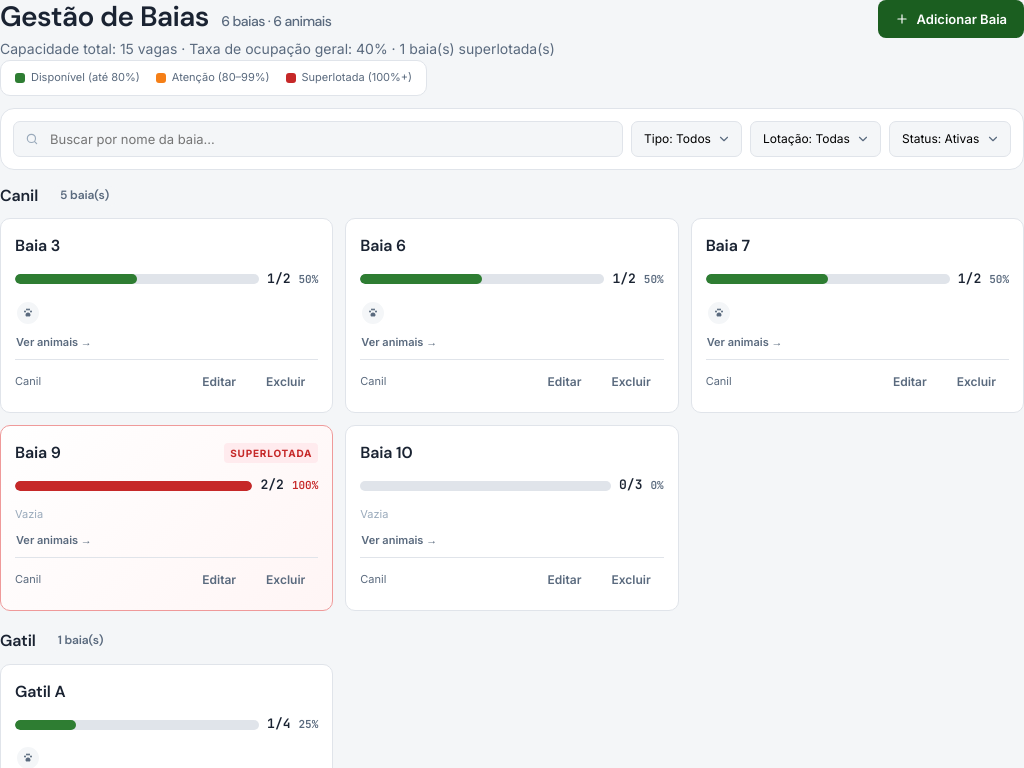
Test: GestaoBaias › capacidade vazia mostra "informe a capacidade" em vez de aceitar como zero
Expected: the text "Baia 3" is shown, [15, 233, 60, 259]
Click the button "Adicionar Baia".
click(951, 19)  # box [878, 0, 1023, 38]
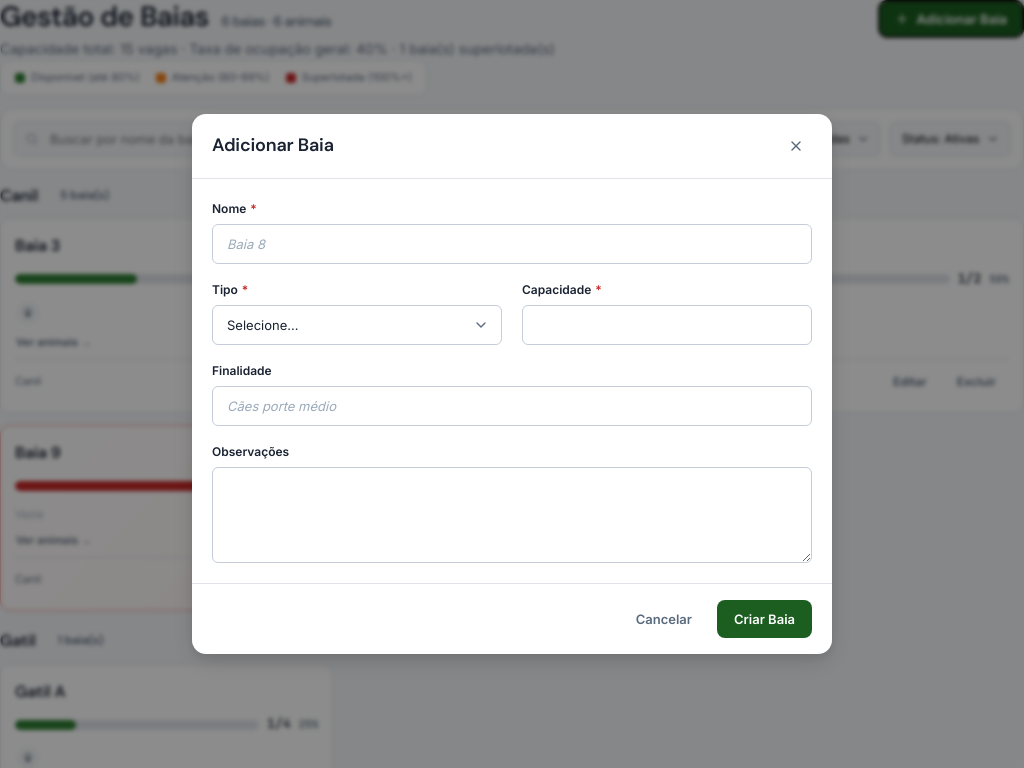
Type "Baia Sem Capacidade" into the field labelled "Nome *".
click(512, 244); type("Baia Sem Capacidade")  # box [212, 224, 812, 264]
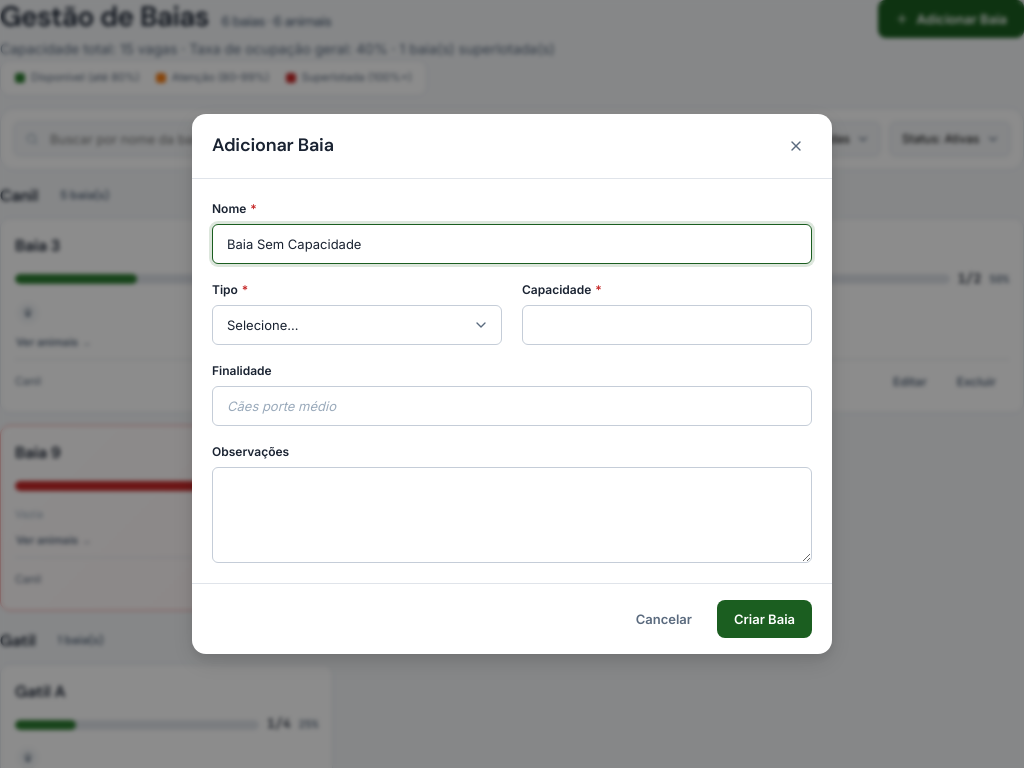
Select "Canil" in the dropdown labelled "Tipo *" at (357, 325), box [212, 305, 502, 345]
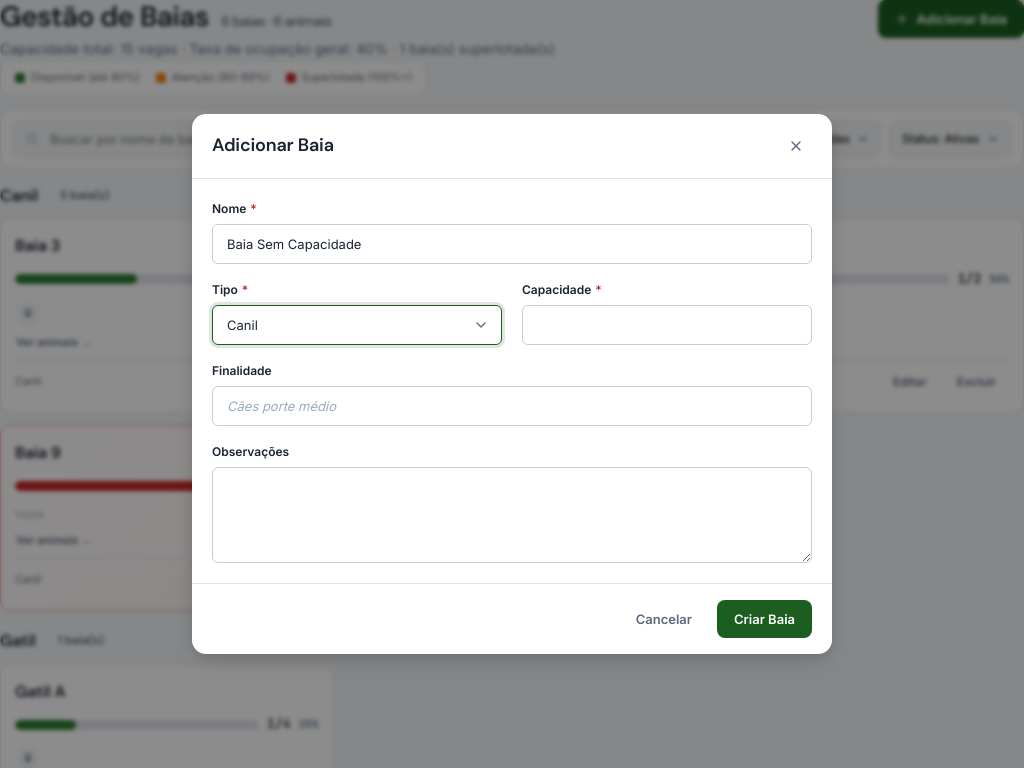
Click the button "Criar Baia".
click(764, 619)  # box [717, 600, 812, 638]
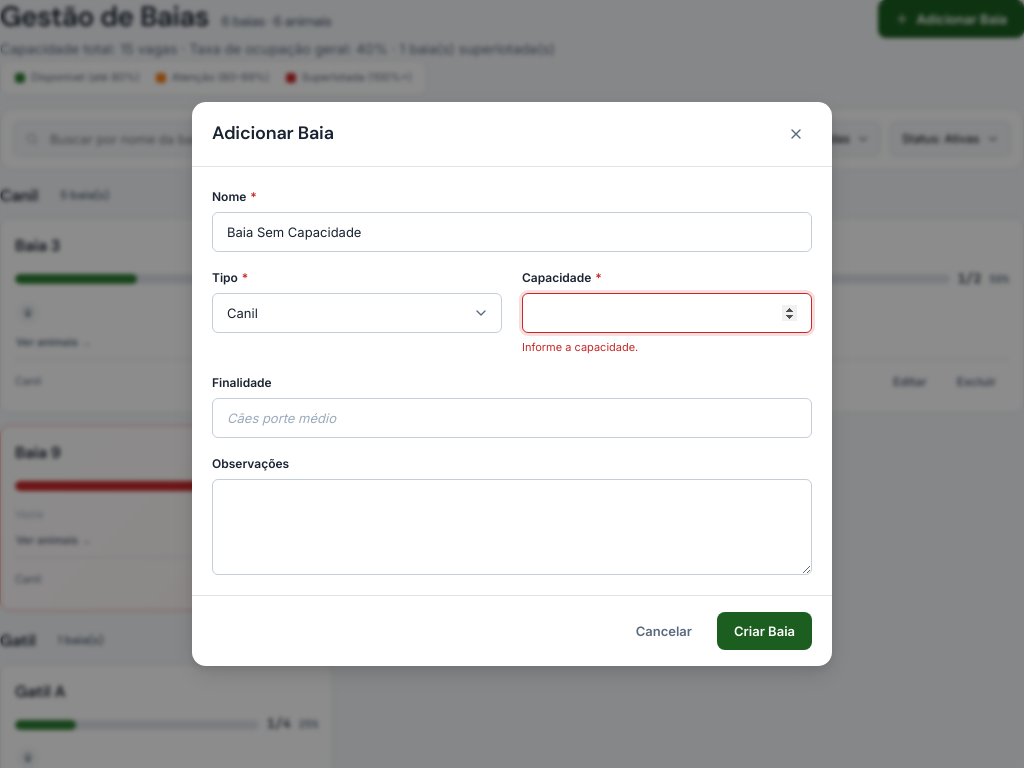
Expected: the text "Informe a capacidade." is shown, [522, 340, 638, 354]
